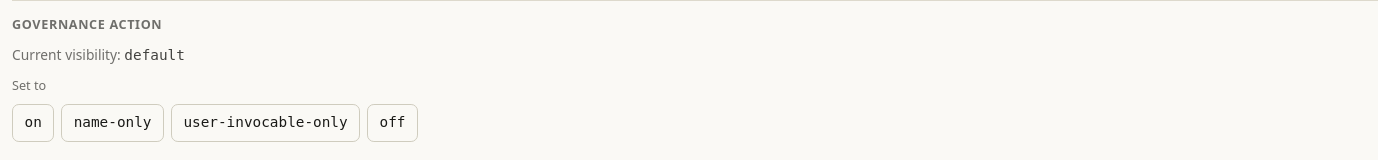
Test: SkillVisibilityControl › error: a thrown transport error is shown verbatim
What coordinates should you click on to do the following:
click the button "off"
I would click on:
 (392, 123)
Its box is [367,104,418,142].
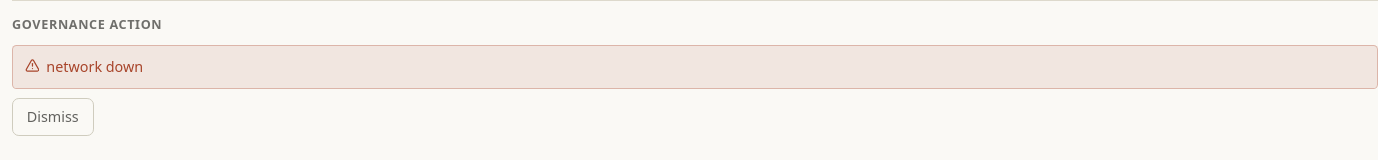
expect the text "network down" is shown: met, box [46,56,143,79]
